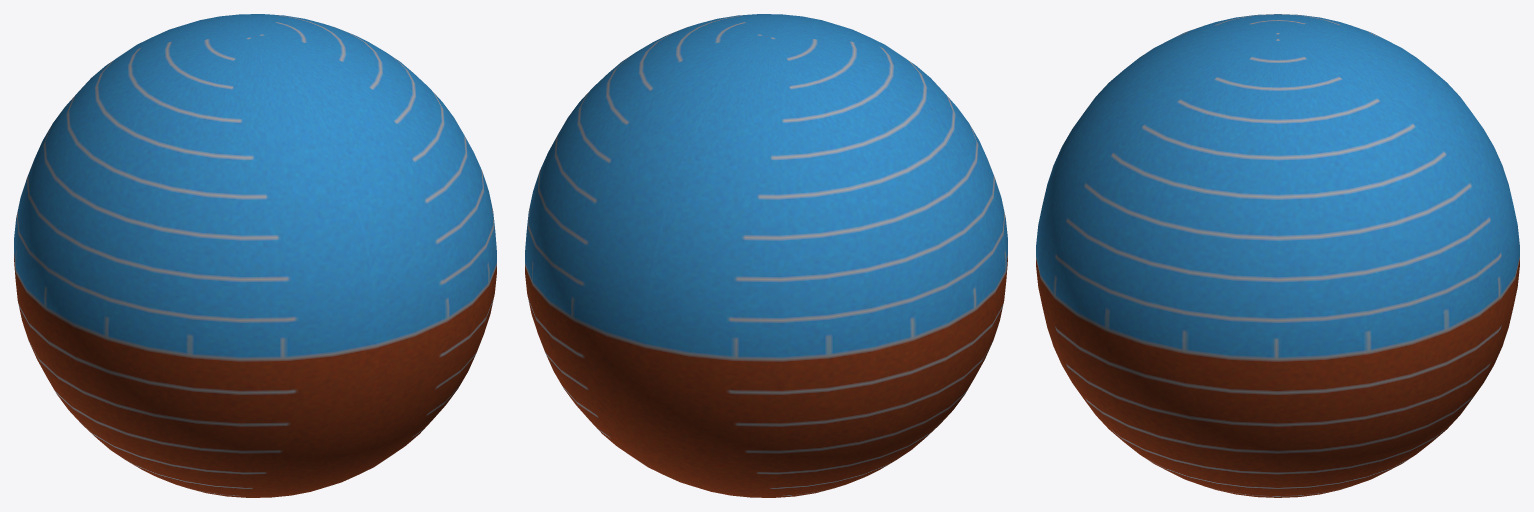
Rendered from mfd_eadi_att.fbx.
The picture shows the model from 3 angles, left to right: view 1: azimuth 30°, elevation 25°; view 2: azimuth 150°, elevation 25°; view 3: azimuth 270°, elevation 25°; orthographic projection.
Parts seen in each view (by area): view 1: EADI ATT; view 2: EADI ATT; view 3: EADI ATT.
Boxes of the visible parts, bbox=[...] form: EADI ATT: bbox=[14, 14, 496, 497]; EADI ATT: bbox=[525, 14, 1007, 497]; EADI ATT: bbox=[1036, 14, 1519, 497].
Bounding box in the file's own units: 200 × 200 × 200.
Materials: 1 (1 with a texture image).
